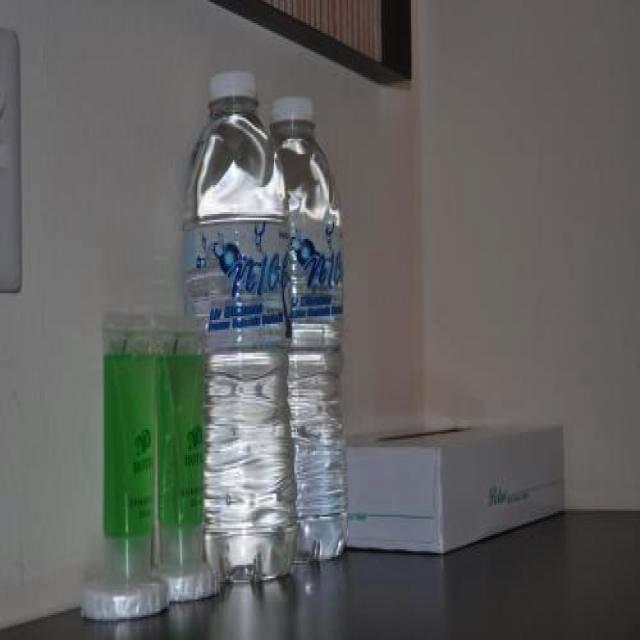bottle: (181, 71, 298, 582), (268, 98, 350, 561)
